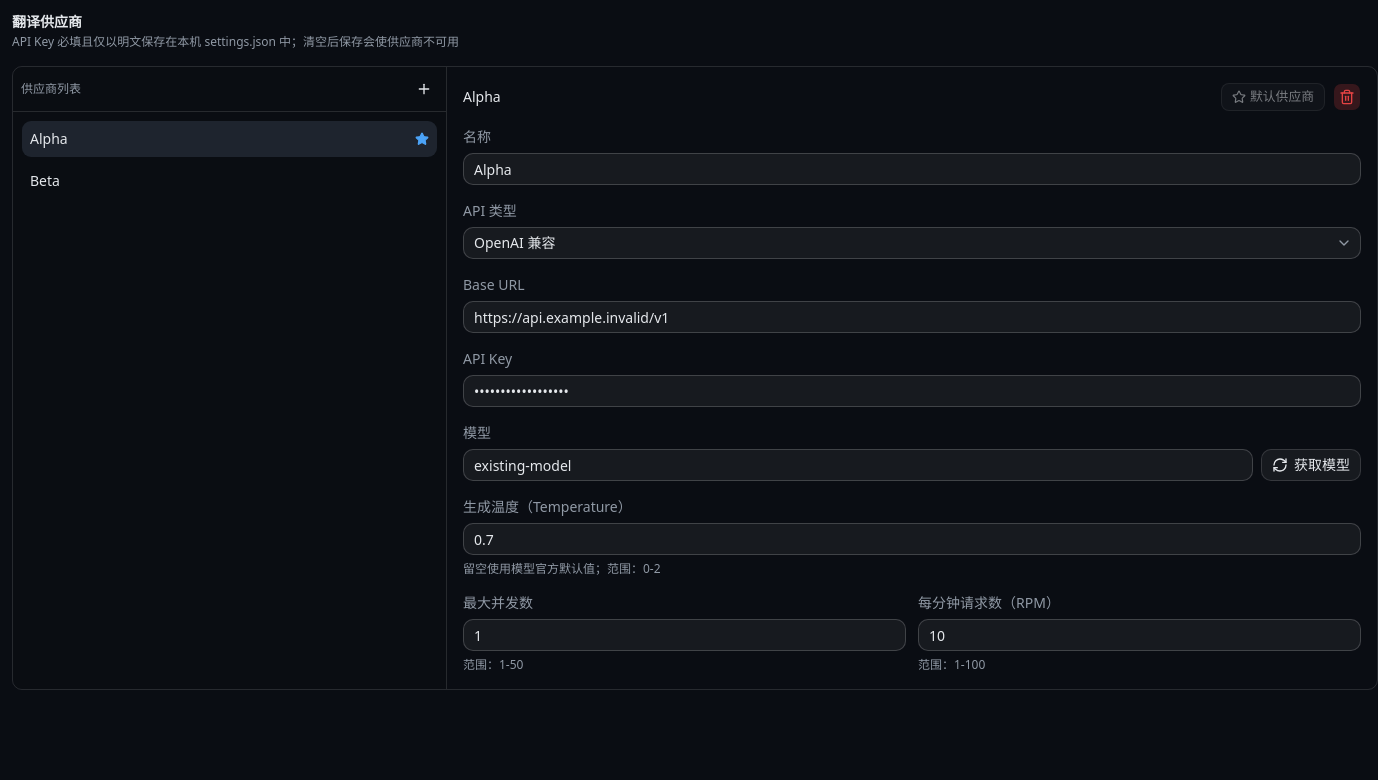
Scenario: SettingsProvidersPanel › discards model results after switching providers
The width and height of the screenshot is (1378, 780).
What coordinates should you click on to do the following:
click the button "获取模型"
I would click on:
 (1311, 465)
Its box is [1261,449,1361,481].
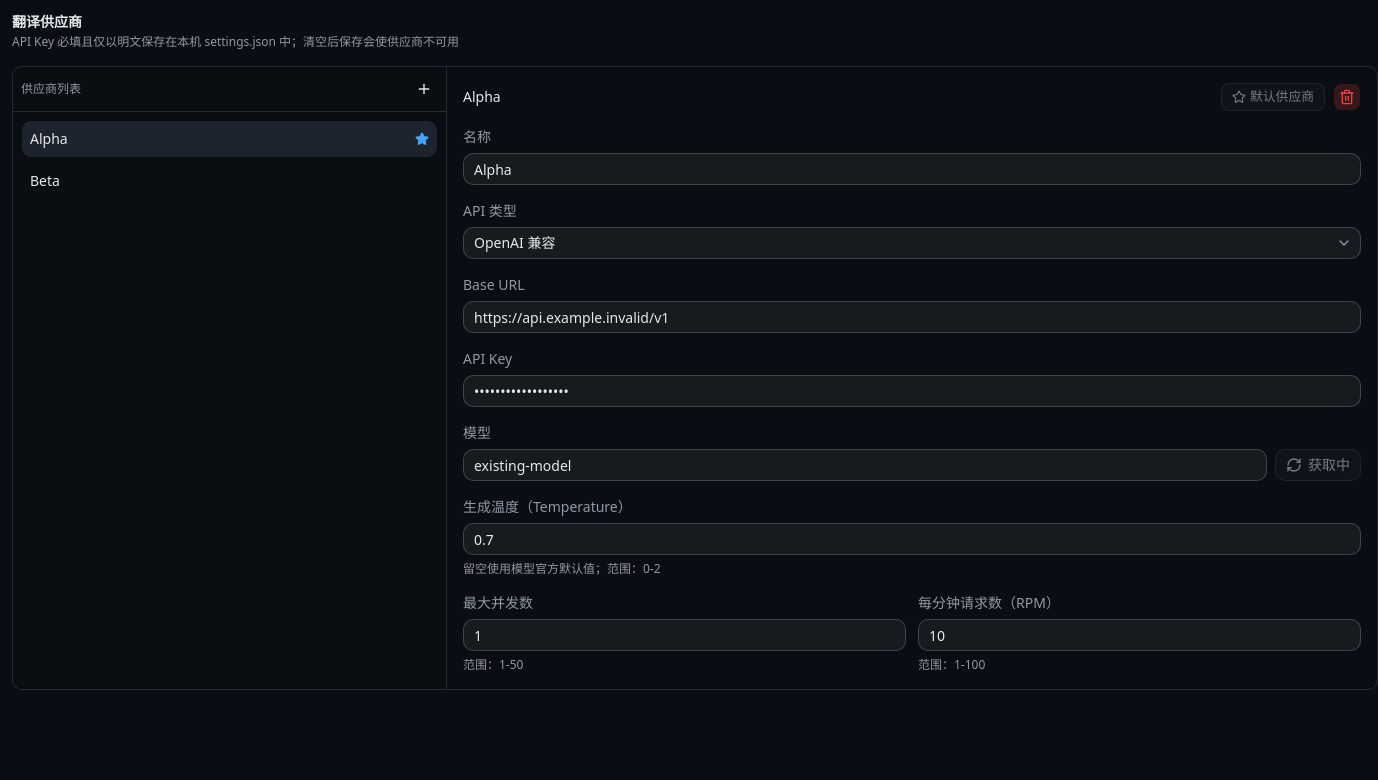
What coordinates should you click on to do the following:
click the button "Beta"
I would click on:
 (45, 180)
Its box is [21,162,438,200].
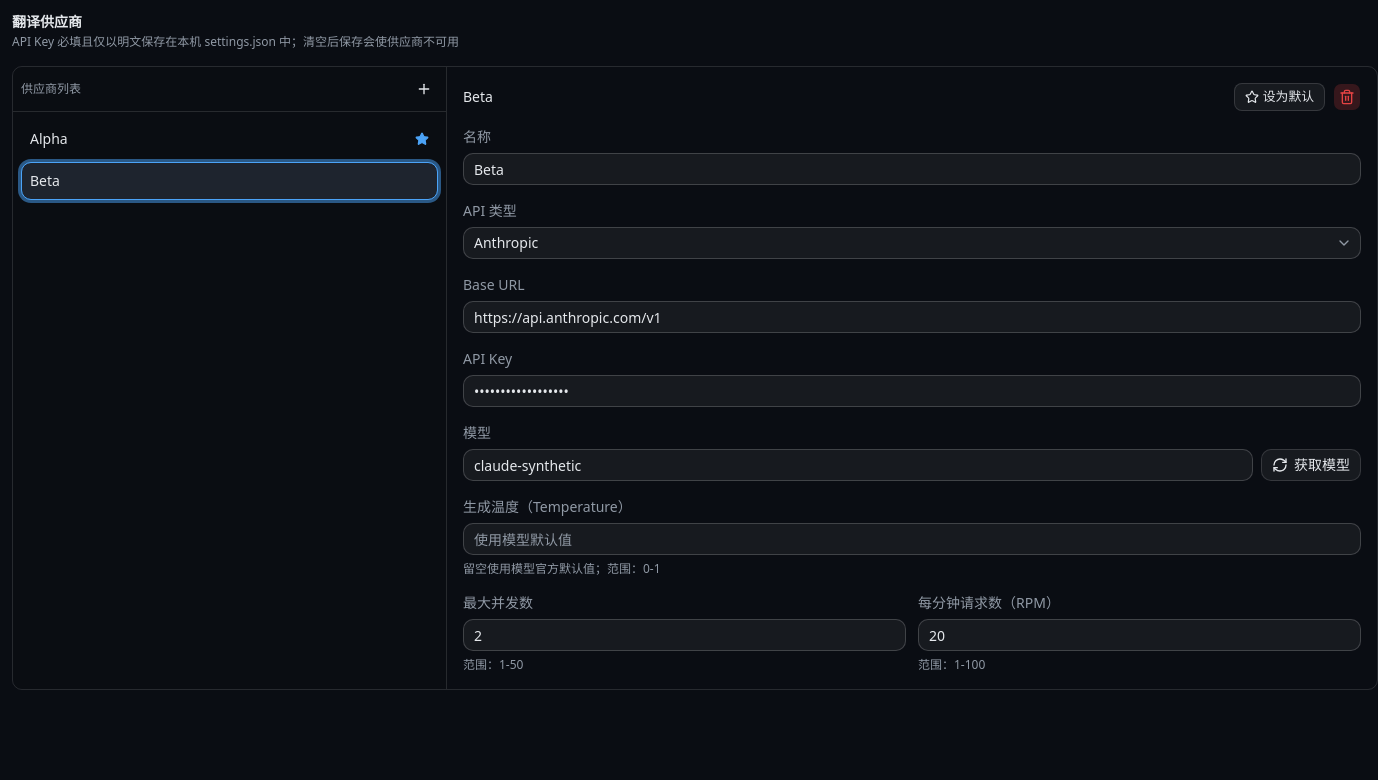
Check: the field labelled "模型" holds "claude-synthetic", box [463,449,1253,481]
